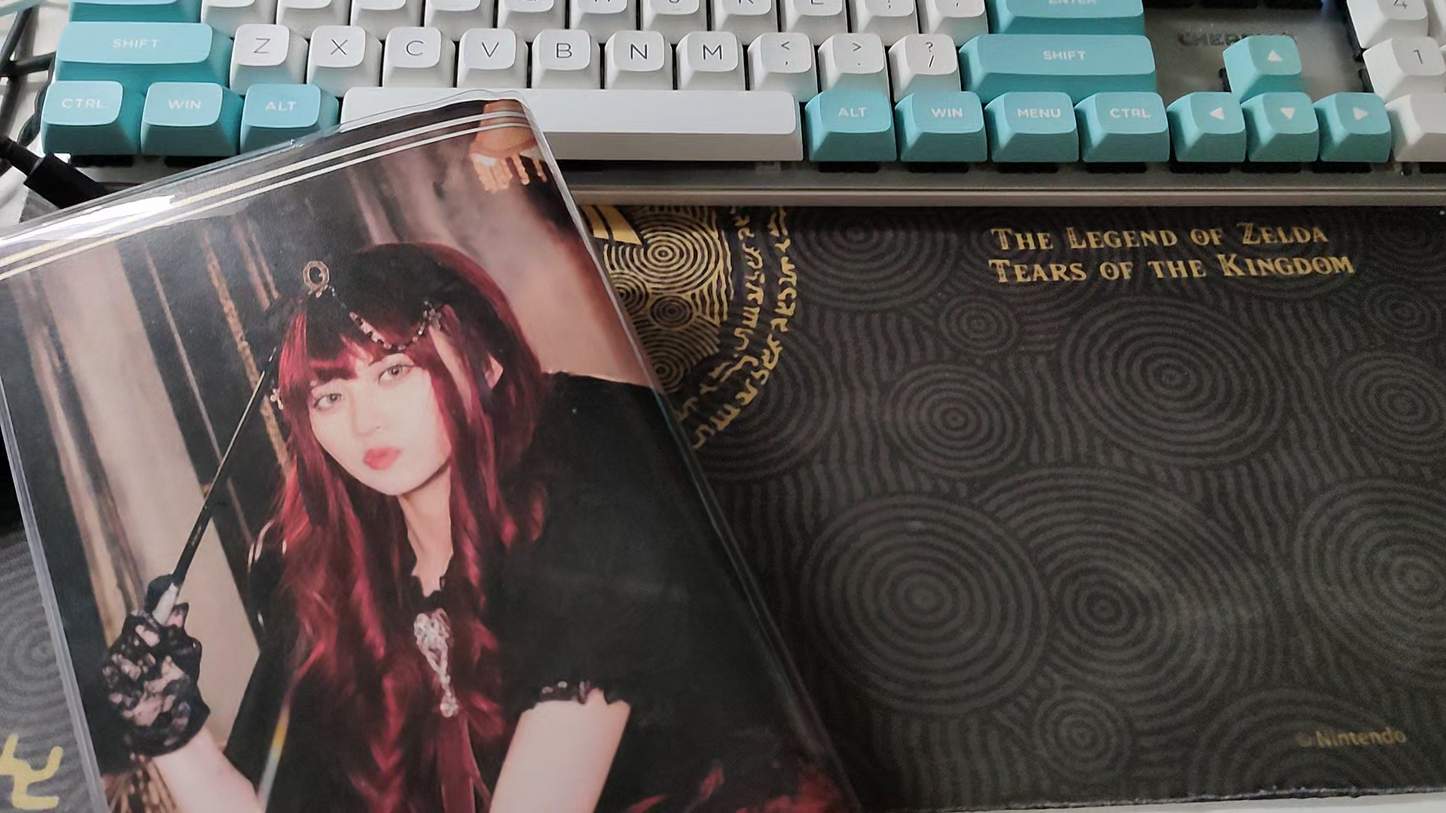Photo_book: (0, 92, 861, 813)
